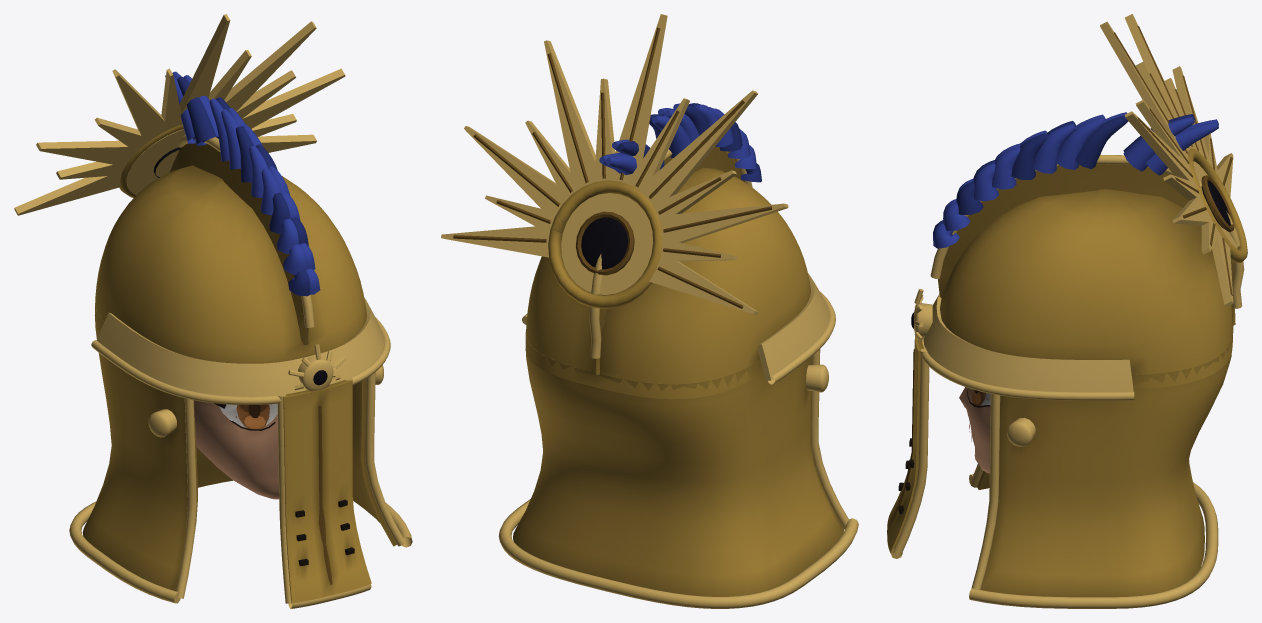
File: h_celestial_f.glb
3 views of the same model, side by side, from view 1: azimuth 30°, elevation 25°; view 2: azimuth 150°, elevation 25°; view 3: azimuth 270°, elevation 25° (orthographic). The views are drawn at different scales.
Visible parts, largest first — view 1: CelestialHelm, HeadMesh; view 2: CelestialHelm; view 3: CelestialHelm, HeadMesh.
Boxes of the visible parts, bbox=[...] form: CelestialHelm: bbox=[14, 14, 412, 608]; HeadMesh: bbox=[194, 400, 279, 499]; CelestialHelm: bbox=[441, 14, 858, 608]; CelestialHelm: bbox=[887, 14, 1247, 608]; HeadMesh: bbox=[959, 387, 990, 473].
Size of the model in its own units: 0.3171 by 0.5073 by 0.3184.
